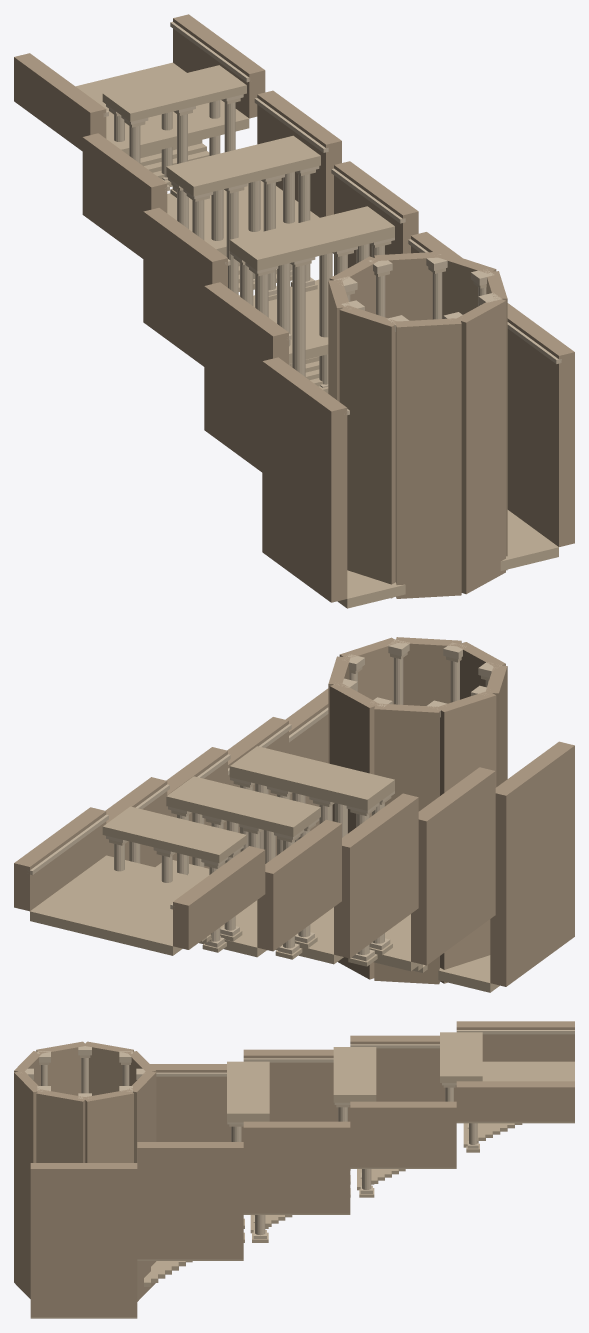
The model's file is adalaj.glb.
The picture shows the model from 3 angles, top to bottom: view 1: azimuth 30°, elevation 25°; view 2: azimuth 150°, elevation 25°; view 3: azimuth 270°, elevation 25°; orthographic projection. The views are drawn at different scales.
Parts seen in each view (by area): view 1: geometry_0; view 2: geometry_0; view 3: geometry_0.
Part boxes in pixels (x1=…): geometry_0: x1=14, y1=14, x2=574, y2=608; geometry_0: x1=14, y1=637, x2=574, y2=992; geometry_0: x1=14, y1=1021, x2=574, y2=1318.
Bounding box in the file's own units: 9.2 × 10.6 × 23.71.
